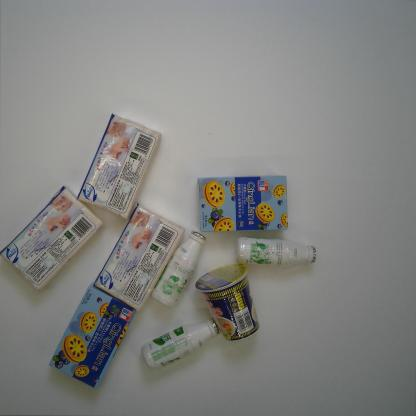Dessert: (48, 283, 136, 390), (196, 174, 289, 232)
Instant Noodles: (194, 263, 260, 342)
Milk: (148, 229, 206, 307), (140, 317, 220, 373), (234, 235, 317, 270)
Tissue: (0, 184, 104, 292), (92, 202, 186, 313), (76, 112, 163, 221)
